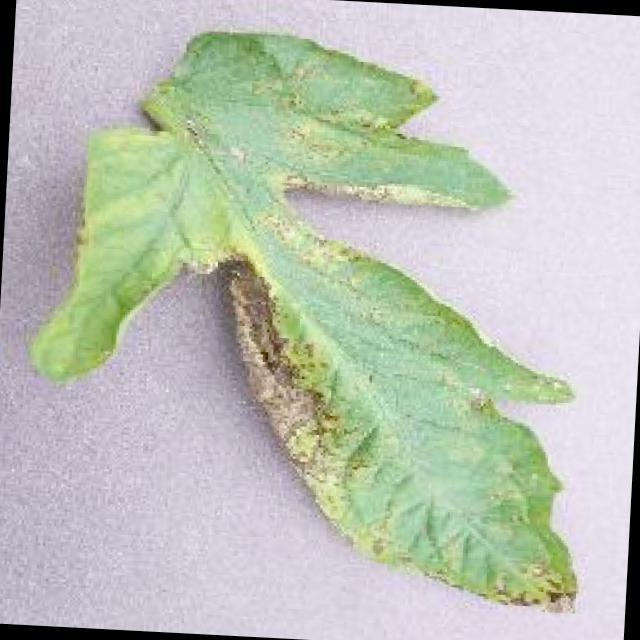Tomato Septoria spot leaf: (21, 24, 610, 620)
